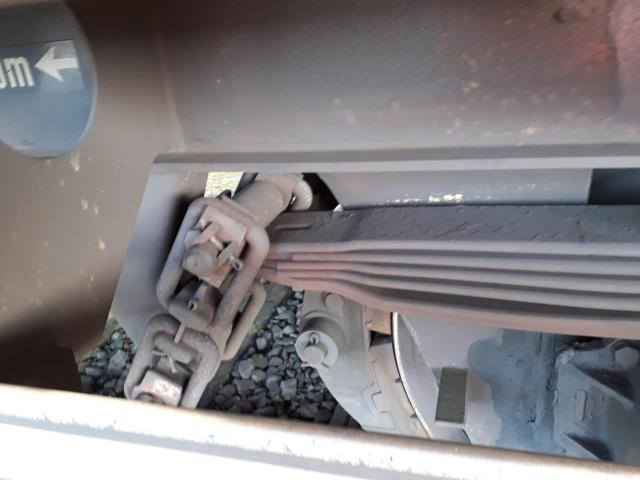blattfederww: (288, 208, 637, 326)
